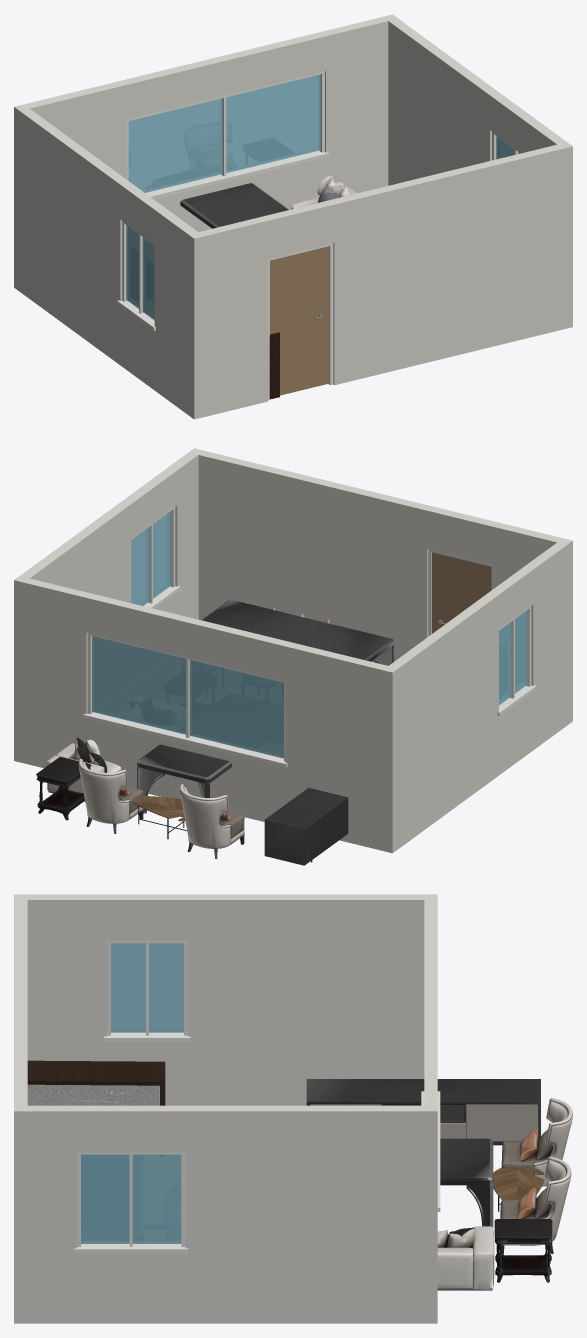
File: diffuscene.glb
3 views of the same model, one above another, from view 1: azimuth 30°, elevation 25°; view 2: azimuth 150°, elevation 25°; view 3: azimuth 270°, elevation 25° (orthographic). The views are drawn at different scales.
Visible parts, largest first — view 1: wall|scenesmith_068__R00|0, wall|scenesmith_068__R00|2, wall|scenesmith_068__R00|1, wall|scenesmith_068__R00|3, wall|scenesmith_068__R00|1 Window 0 | glazing, wall|scenesmith_068__R00|0 Door 0 | wood leaf, wall|scenesmith_068__R00|1 Window 0 | jamb, raw_model.001, wall|scenesmith_068__R00|2 Window 0 | glazing, wall|scenesmith_068__R00|2 Window 0 | jamb, wall|scenesmith_068__R00|0 Door 0 | jamb, raw_model.003 (+1 smaller); view 2: wall|scenesmith_068__R00|1, wall|scenesmith_068__R00|0, wall|scenesmith_068__R00|2, wall|scenesmith_068__R00|1 Window 0 | glazing, wall|scenesmith_068__R00|3, raw_model.001, raw_model.004, raw_model.011, wall|scenesmith_068__R00|1 Window 0 | jamb, wall|scenesmith_068__R00|0 Door 0 | wood leaf, wall|scenesmith_068__R00|3 Window 0 | glazing, wall|scenesmith_068__R00|2 Window 0 | glazing (+6 smaller); view 3: wall|scenesmith_068__R00|3, wall|scenesmith_068__R00|2, raw_model.011, wall|scenesmith_068__R00|3 Window 0 | glazing, wall|scenesmith_068__R00|2 Window 0 | glazing, raw_model.009, wall|scenesmith_068__R00|1, wall|scenesmith_068__R00|0, raw_model.004, raw_model.003, raw_model.001, raw_model.002 (+4 smaller).
Boxes of the visible parts, x1=… form: wall|scenesmith_068__R00|0: x1=188, y1=144, x2=562, y2=418; wall|scenesmith_068__R00|2: x1=14, y1=104, x2=204, y2=419; wall|scenesmith_068__R00|1: x1=14, y1=14, x2=397, y2=291; wall|scenesmith_068__R00|3: x1=388, y1=18, x2=572, y2=329; wall|scenesmith_068__R00|1 Window 0 | glazing: x1=128, y1=74, x2=320, y2=192; wall|scenesmith_068__R00|0 Door 0 | wood leaf: x1=270, y1=246, x2=329, y2=395; wall|scenesmith_068__R00|1 Window 0 | jamb: x1=126, y1=71, x2=329, y2=199; raw_model.001: x1=180, y1=183, x2=288, y2=228; wall|scenesmith_068__R00|2 Window 0 | glazing: x1=126, y1=225, x2=154, y2=320; wall|scenesmith_068__R00|2 Window 0 | jamb: x1=117, y1=221, x2=155, y2=330; wall|scenesmith_068__R00|0 Door 0 | jamb: x1=268, y1=243, x2=333, y2=400; raw_model.003: x1=291, y1=176, x2=356, y2=209; wall|scenesmith_068__R00|1: x1=14, y1=576, x2=398, y2=853; wall|scenesmith_068__R00|0: x1=198, y1=450, x2=572, y2=725; wall|scenesmith_068__R00|2: x1=383, y1=538, x2=572, y2=848; wall|scenesmith_068__R00|1 Window 0 | glazing: x1=92, y1=636, x2=283, y2=758; wall|scenesmith_068__R00|3: x1=20, y1=448, x2=203, y2=619; raw_model.001: x1=137, y1=600, x2=393, y2=813; raw_model.004: x1=78, y1=759, x2=244, y2=858; raw_model.011: x1=264, y1=787, x2=348, y2=865; wall|scenesmith_068__R00|1 Window 0 | jamb: x1=83, y1=633, x2=287, y2=767; wall|scenesmith_068__R00|0 Door 0 | wood leaf: x1=432, y1=552, x2=491, y2=633; wall|scenesmith_068__R00|3 Window 0 | glazing: x1=131, y1=511, x2=171, y2=605; wall|scenesmith_068__R00|2 Window 0 | glazing: x1=499, y1=610, x2=527, y2=705; wall|scenesmith_068__R00|3: x1=14, y1=1105, x2=424, y2=1323; wall|scenesmith_068__R00|2: x1=14, y1=894, x2=437, y2=1105; raw_model.011: x1=306, y1=1079, x2=540, y2=1145; wall|scenesmith_068__R00|3 Window 0 | glazing: x1=81, y1=1154, x2=181, y2=1243; wall|scenesmith_068__R00|2 Window 0 | glazing: x1=111, y1=943, x2=183, y2=1032; raw_model.009: x1=27, y1=1060, x2=165, y2=1105; wall|scenesmith_068__R00|1: x1=424, y1=900, x2=437, y2=1323; wall|scenesmith_068__R00|0: x1=14, y1=900, x2=27, y2=1323; raw_model.004: x1=500, y1=1098, x2=572, y2=1254; raw_model.003: x1=437, y1=1226, x2=494, y2=1290; raw_model.001: x1=440, y1=1138, x2=493, y2=1227; raw_model.002: x1=494, y1=1219, x2=552, y2=1282.
Bounding box in the file's own units: 5.76 × 2.61 × 6.2.
15 materials, 9 textured.
